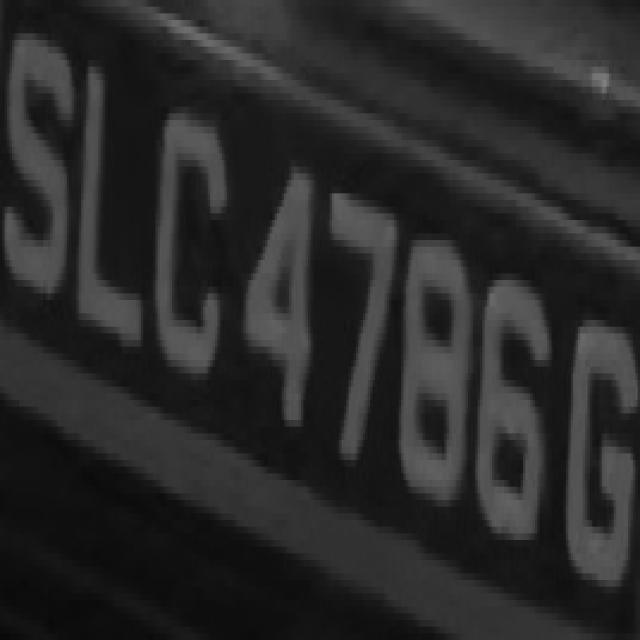4: (244, 120, 322, 467)
6: (466, 240, 542, 547)
7: (327, 167, 399, 493)
8: (392, 207, 471, 513)
C: (152, 94, 232, 394)
G: (570, 294, 638, 614)
L: (74, 60, 139, 367)
S: (7, 20, 72, 340)
